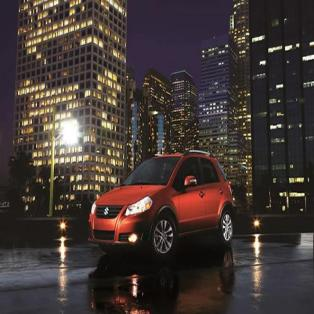Auto: (89, 150, 236, 266)
